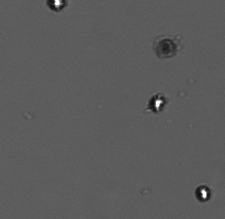Dead Cell: (155, 38, 176, 57)
Living Cell: (149, 95, 165, 113), (195, 185, 211, 202), (46, 1, 66, 12)
